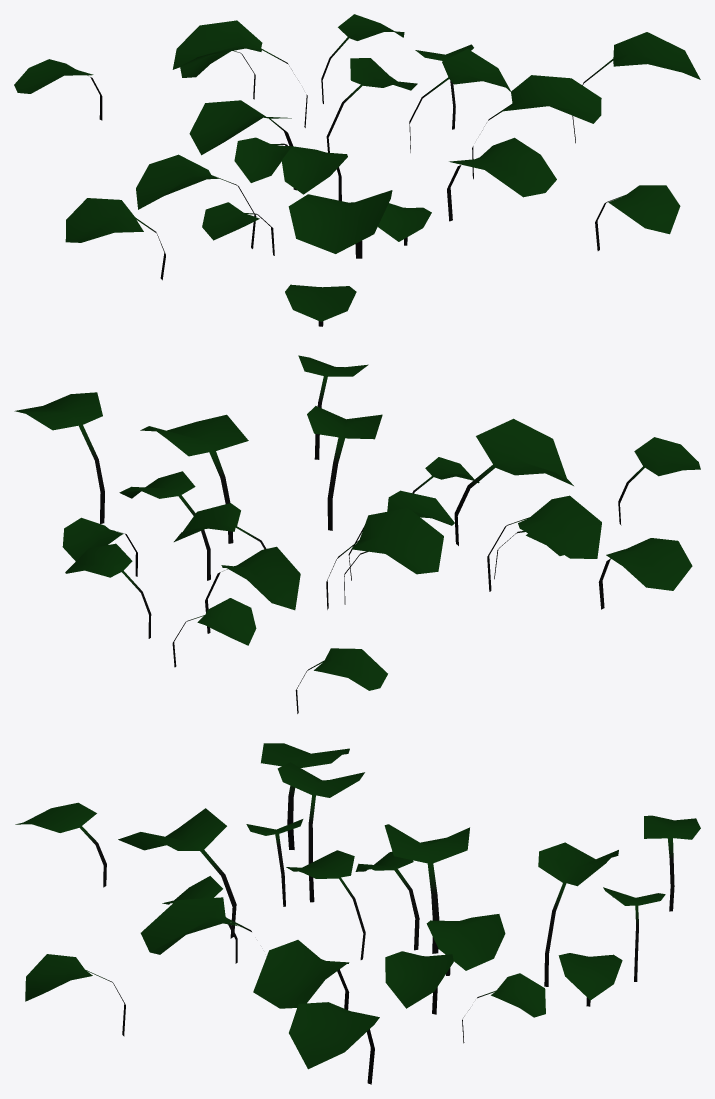
File: GroundIviGCATA_Dense_B.fbx
3 renders of one model, top to bottom at view 1: azimuth 30°, elevation 25°; view 2: azimuth 150°, elevation 25°; view 3: azimuth 270°, elevation 25°, orthographic. The views are drawn at different scales.
Parts seen in each view (by area): view 1: GIGCATADB_LOD0; view 2: GIGCATADB_LOD0; view 3: GIGCATADB_LOD0.
Part boxes in pixels (x1,y1,x2,y2): GIGCATADB_LOD0: (14, 14, 700, 326); GIGCATADB_LOD0: (14, 355, 700, 713); GIGCATADB_LOD0: (15, 743, 700, 1084).
Size of what is drawn, in the model's own units: 1.79 by 0.2624 by 1.58.
